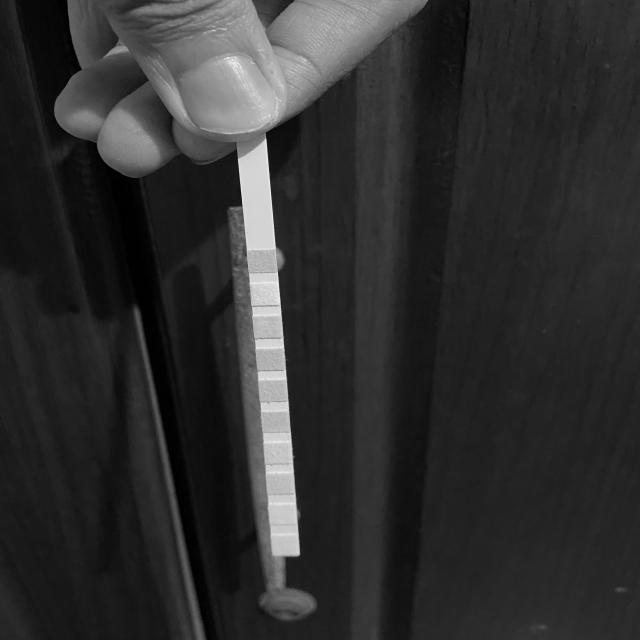Bilirubin: (253, 286, 276, 304)
Blood: (261, 382, 285, 401)
Glucose: (250, 252, 274, 270)
Ketone: (256, 318, 281, 336)
Leukocytes: (273, 535, 298, 554)
Nitrite: (271, 505, 296, 524)
Protein: (266, 444, 290, 463)
SpGravity: (259, 350, 283, 370)
Urobilinogen: (269, 475, 293, 494)
background: (0, 0, 640, 640)
pH: (264, 412, 288, 432)
strip: (239, 146, 300, 556)
